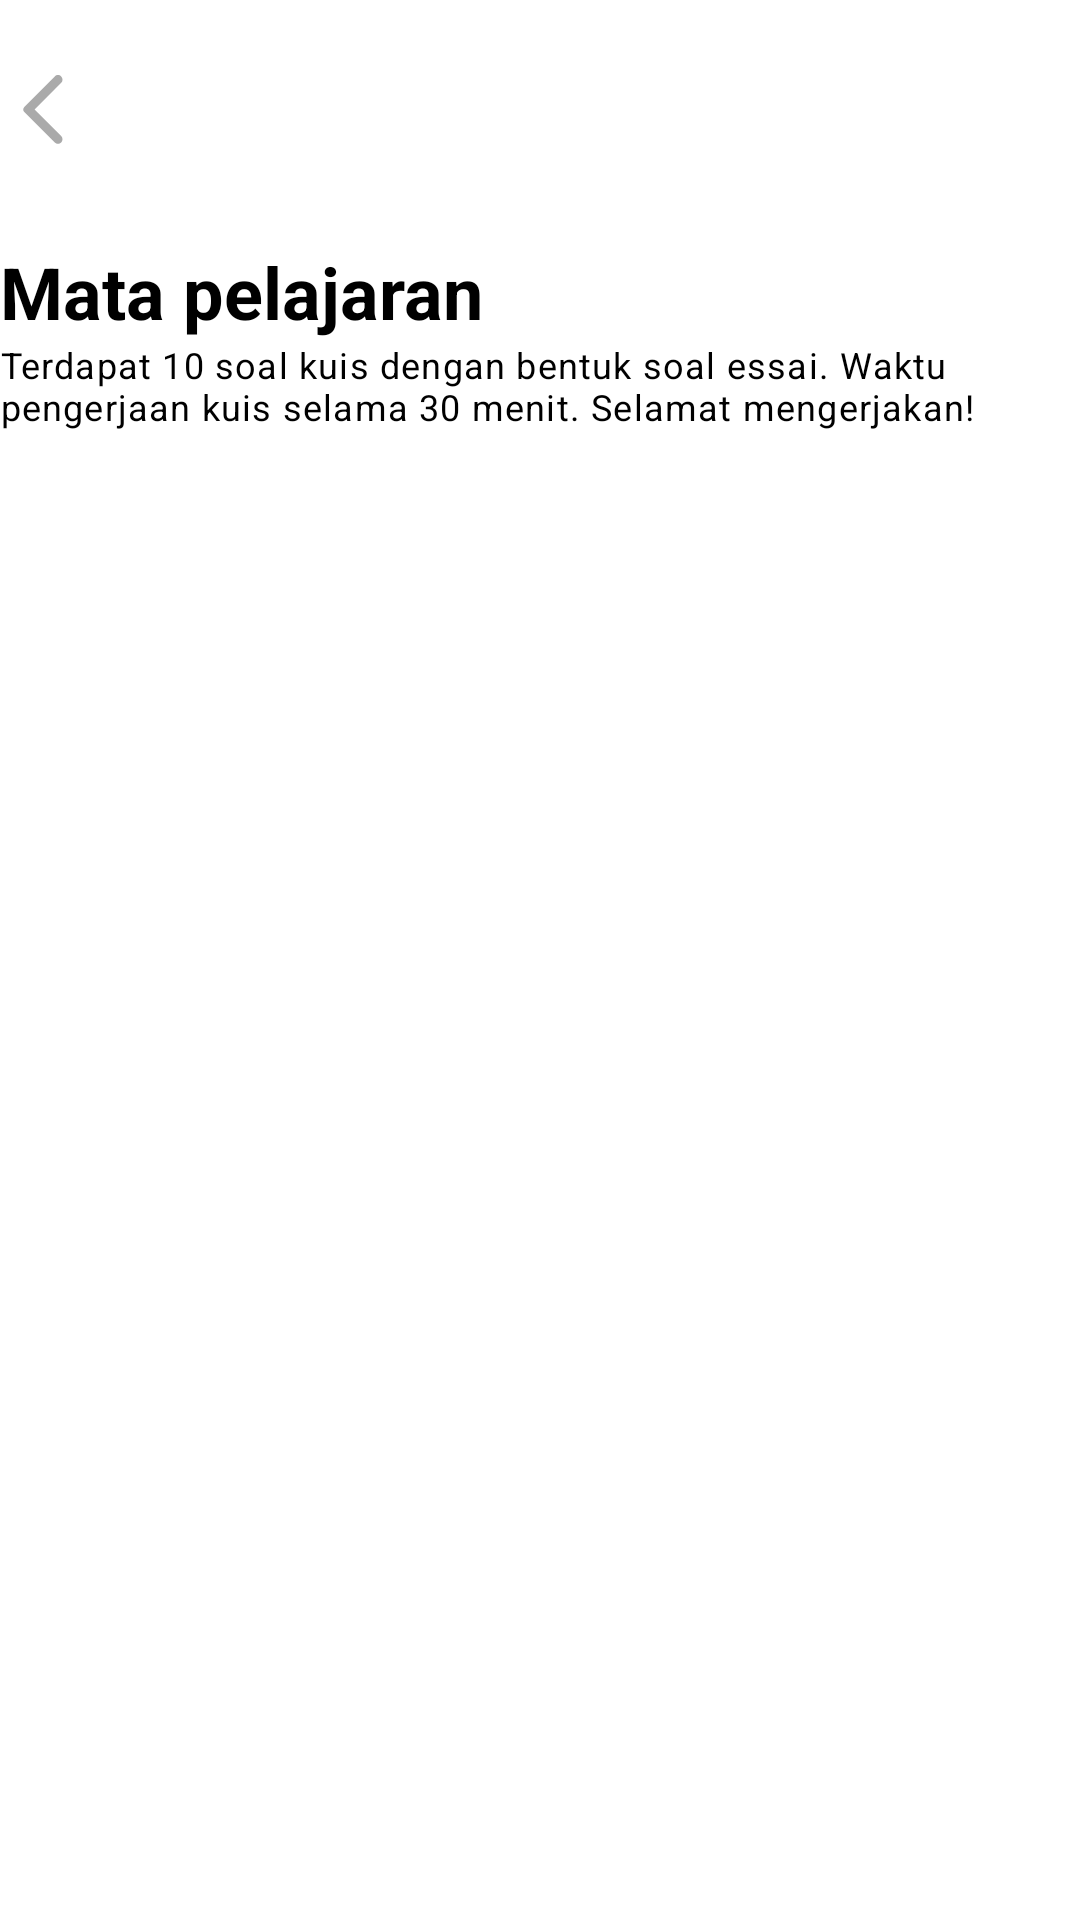

Point at icon controls on the screen. Image size 1080px x 1920px, points as point (x, y).
Back button: point (43, 109)
